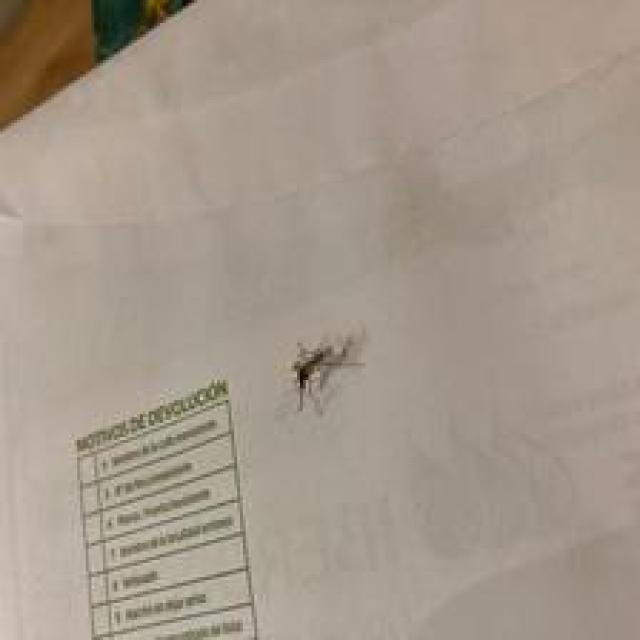Culex: (288, 332, 366, 414)
